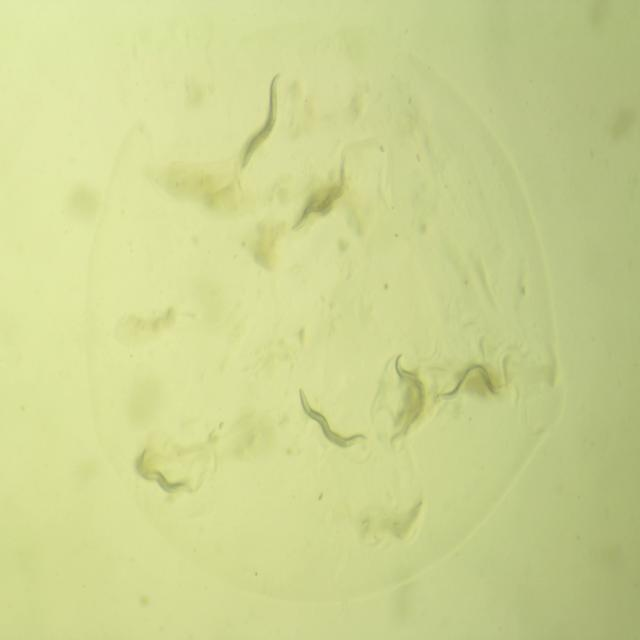worm: (229, 61, 288, 187), (291, 380, 374, 463), (432, 352, 513, 419), (289, 154, 352, 238), (383, 348, 433, 451), (132, 437, 196, 505)
